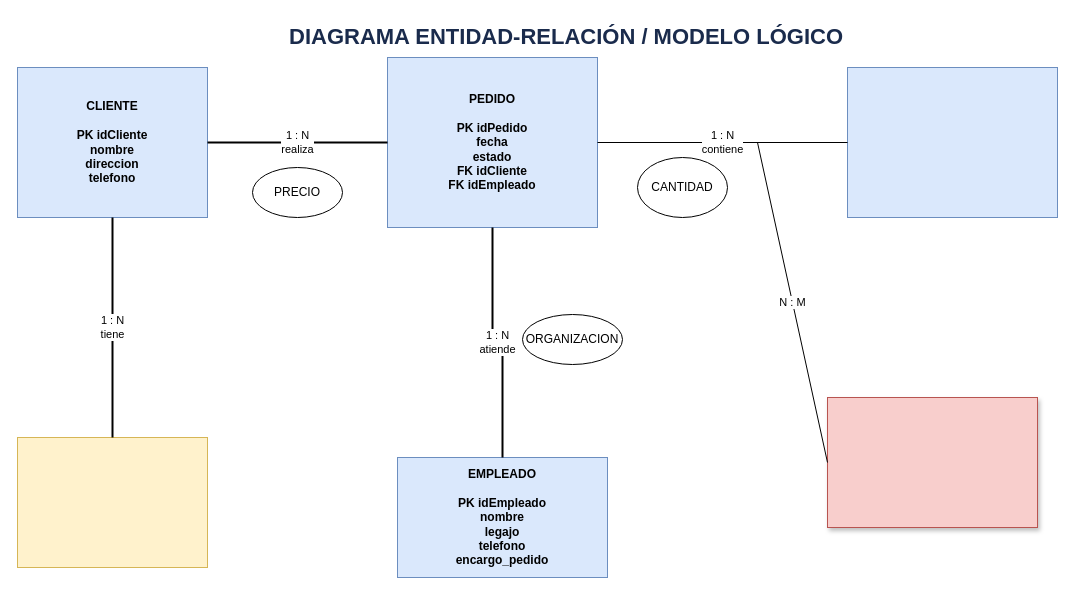
Image size: 1075x595. Some labels were removed from this diagram. The centre of each missing label's shape, as x and y in pixels:
EMAIL PK idEmail direccion FK idCliente: the point at 112,502
PEDIDO_ PRODUCTO FK idPedido FK idProducto cantidad: the point at 933,463
PRODUCTO PK idProducto codigo nombre precio stock: the point at 952,142
